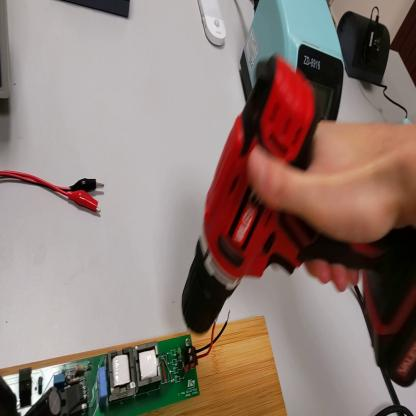electric screwdriver: (180, 54, 416, 391)
hand: (247, 118, 412, 294)
high voltage board: (2, 311, 231, 415)
oscilloscope: (1, 3, 15, 107)
socket: (339, 13, 392, 87)
welder station: (239, 2, 348, 124)
working area: (2, 318, 287, 414)
